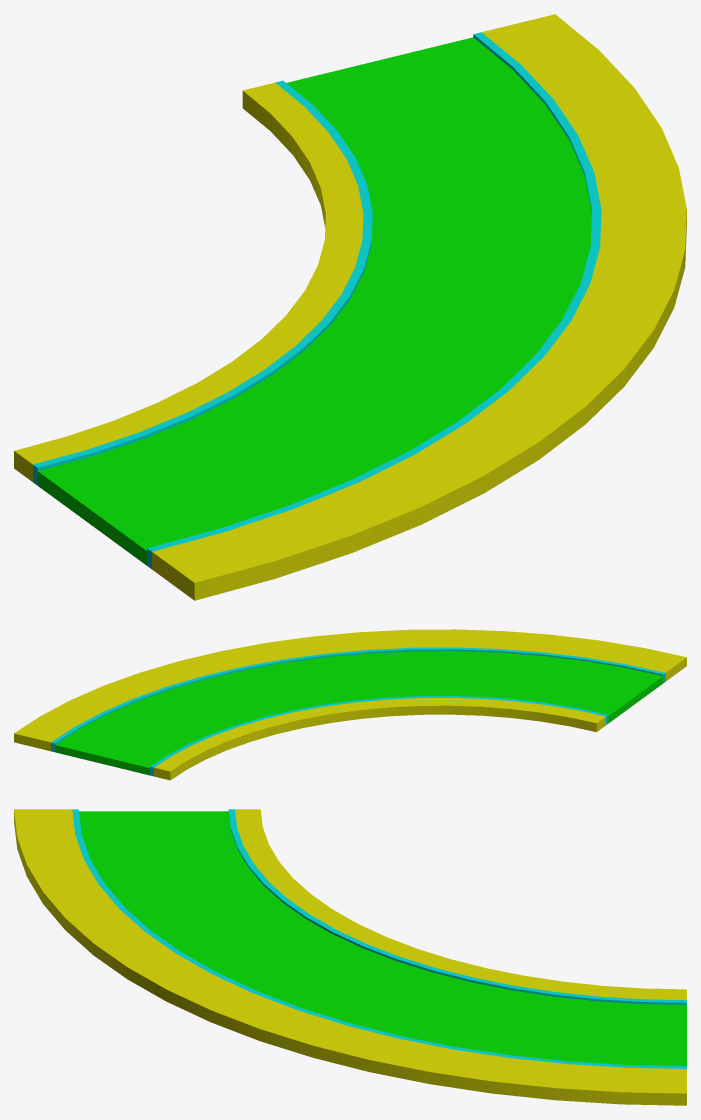
Rendered from Right_Turn_road.fbx.
The picture shows the model from 3 angles, top to bottom: view 1: azimuth 30°, elevation 25°; view 2: azimuth 150°, elevation 25°; view 3: azimuth 270°, elevation 25°; orthographic projection. The views are drawn at different scales.
Parts seen in each view (by area): view 1: Right_Turn_road; view 2: Right_Turn_road; view 3: Right_Turn_road.
Part boxes in pixels (x1,y1,x2,y2): Right_Turn_road: [14, 14, 686, 600]; Right_Turn_road: [14, 629, 686, 780]; Right_Turn_road: [14, 809, 686, 1105].
Bounding box in the file's own units: 1513 × 30.14 × 1513.
